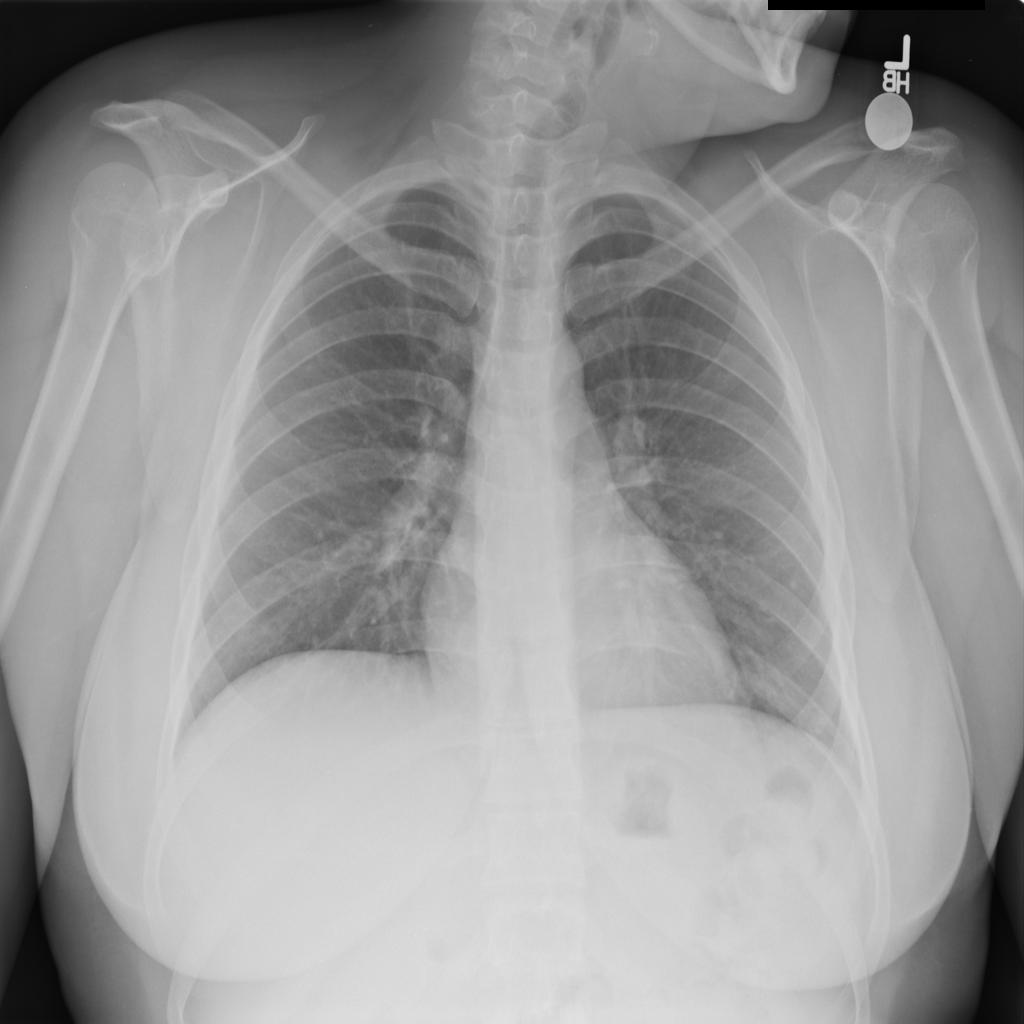nodule: (778, 564, 811, 603)
